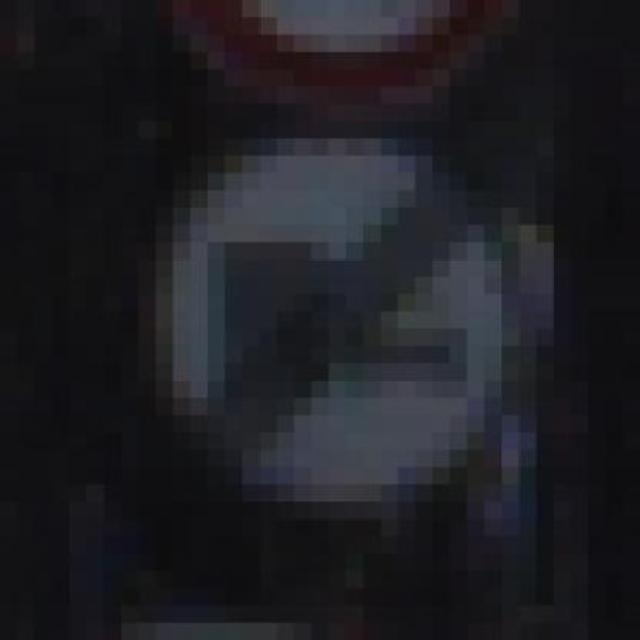Overtaking by trucks is prohibited: (86, 103, 554, 571)
